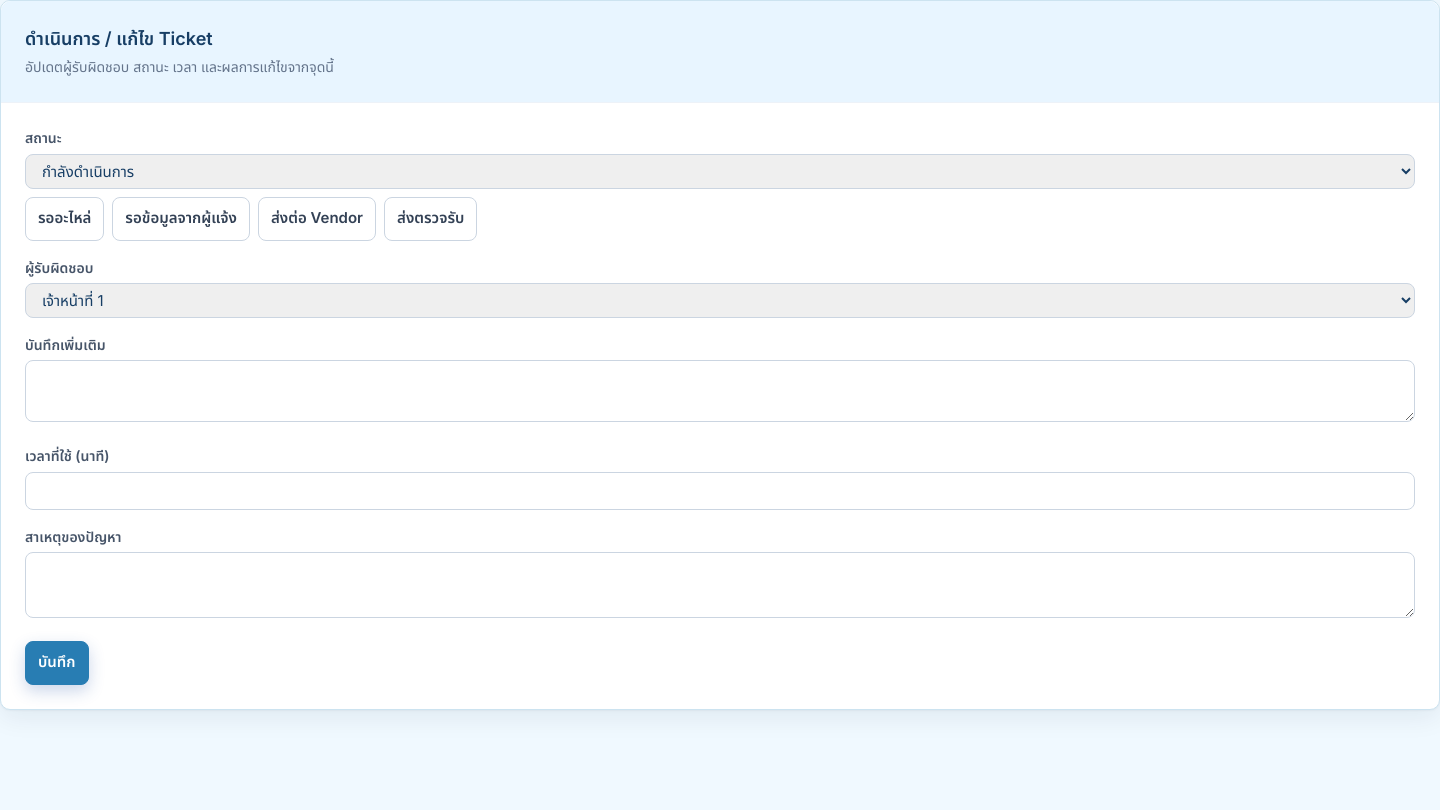
it: Ticket work panel › keeps the Outsource sidebar fields in one explicit grid column
Select "ส่งต่อ Outsource" in the dropdown labelled "สถานะ" at (720, 171), box [25,154,1415,189]
(page scrolled)
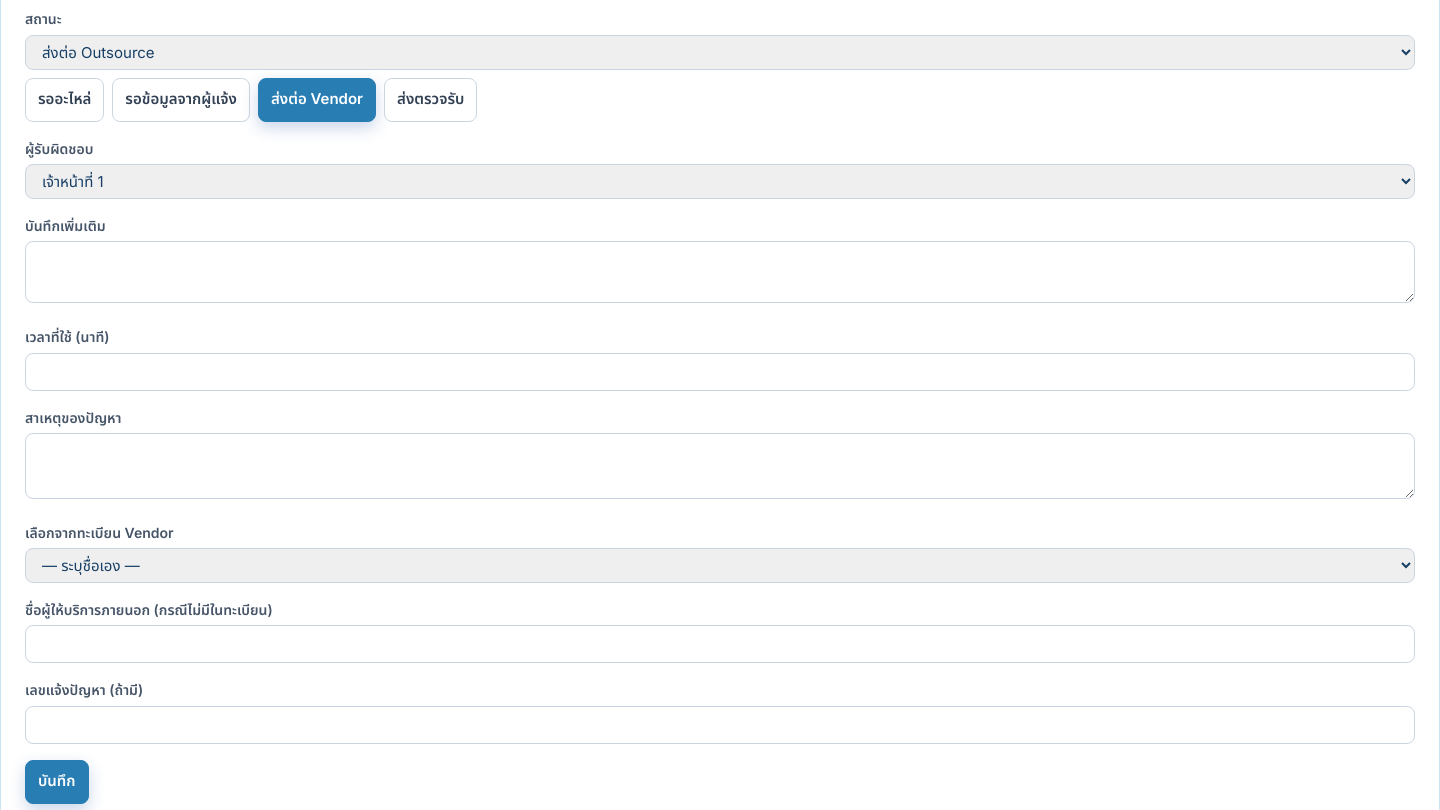
Result: the dropdown labelled "เลือกจากทะเบียน Vendor" is shown at [25,548,1415,583]
Result: the field labelled "ชื่อผู้ให้บริการภายนอก (กรณีไม่มีในทะเบียน)" is shown at [25,625,1415,663]
Result: the field labelled "เลขแจ้งปัญหา (ถ้ามี)" is shown at [25,706,1415,744]
